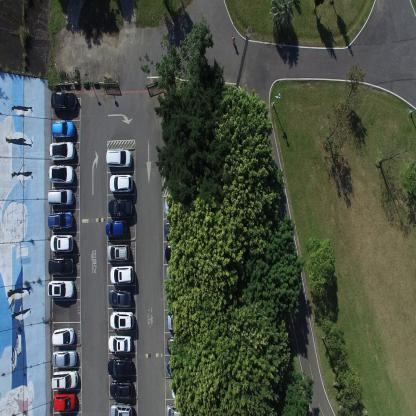car: (50, 368, 79, 390), (104, 148, 132, 169), (48, 163, 74, 185), (50, 90, 77, 111), (47, 278, 75, 298), (47, 256, 75, 276), (109, 264, 134, 286), (47, 209, 73, 230), (164, 265, 190, 286), (48, 139, 75, 159), (47, 186, 74, 206), (164, 242, 189, 263), (108, 198, 134, 218), (50, 119, 76, 139), (163, 197, 189, 217), (52, 348, 78, 368), (167, 310, 191, 331), (109, 310, 134, 330), (107, 333, 132, 353), (52, 391, 77, 411), (166, 335, 191, 355), (166, 358, 192, 377), (51, 326, 74, 347), (108, 173, 132, 193), (50, 232, 74, 252), (107, 358, 132, 377), (108, 288, 131, 308), (110, 379, 133, 399), (106, 243, 130, 262), (164, 221, 189, 239), (105, 219, 128, 238), (171, 381, 194, 399), (109, 402, 133, 416), (165, 403, 191, 415)
